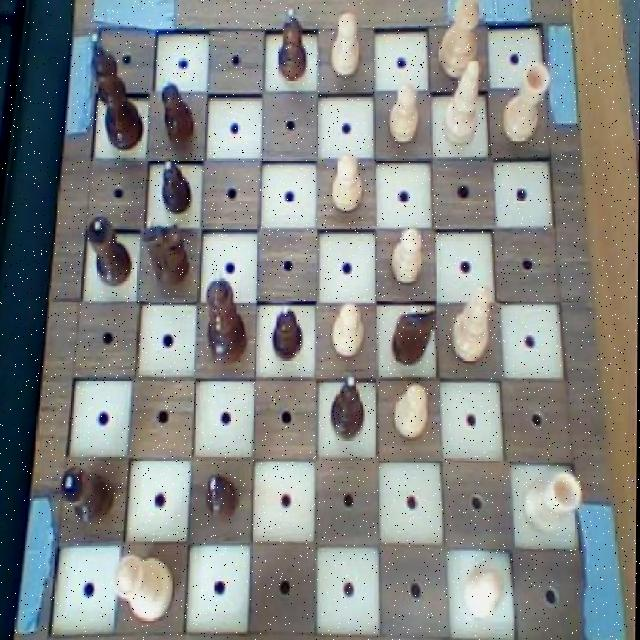bishop: (328, 369, 370, 444)
black-bishop: (86, 31, 146, 154)
black-king: (387, 298, 442, 372), (140, 218, 195, 291)
black-knight: (155, 77, 198, 148), (276, 5, 312, 84), (155, 156, 195, 220), (205, 471, 247, 524), (270, 304, 308, 362)
black-pawn: (203, 270, 249, 368)
black-queen: (84, 214, 137, 295), (61, 460, 119, 532)
black-rook: (438, 55, 486, 148), (448, 282, 497, 368)
white-king: (434, 0, 483, 85)
white-knight: (388, 225, 430, 290), (329, 6, 365, 81), (328, 150, 367, 218), (392, 378, 431, 444), (462, 562, 507, 618), (386, 81, 423, 147), (331, 300, 367, 360)
white-pawn: (114, 549, 178, 626)
white-queen: (498, 58, 553, 146), (520, 466, 585, 539)
